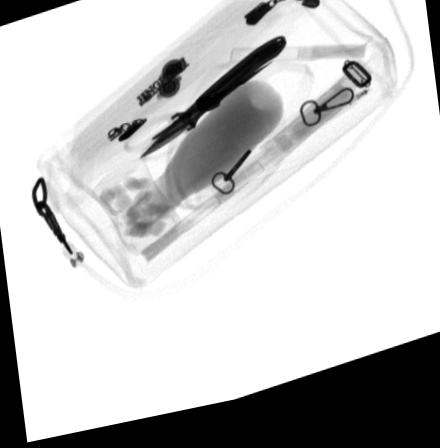Knife: (136, 47, 286, 165)
Scissors: (120, 60, 276, 177)
